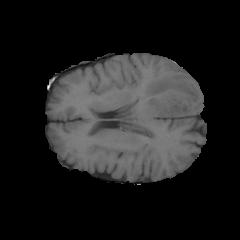glioma: (139, 73, 197, 117)
